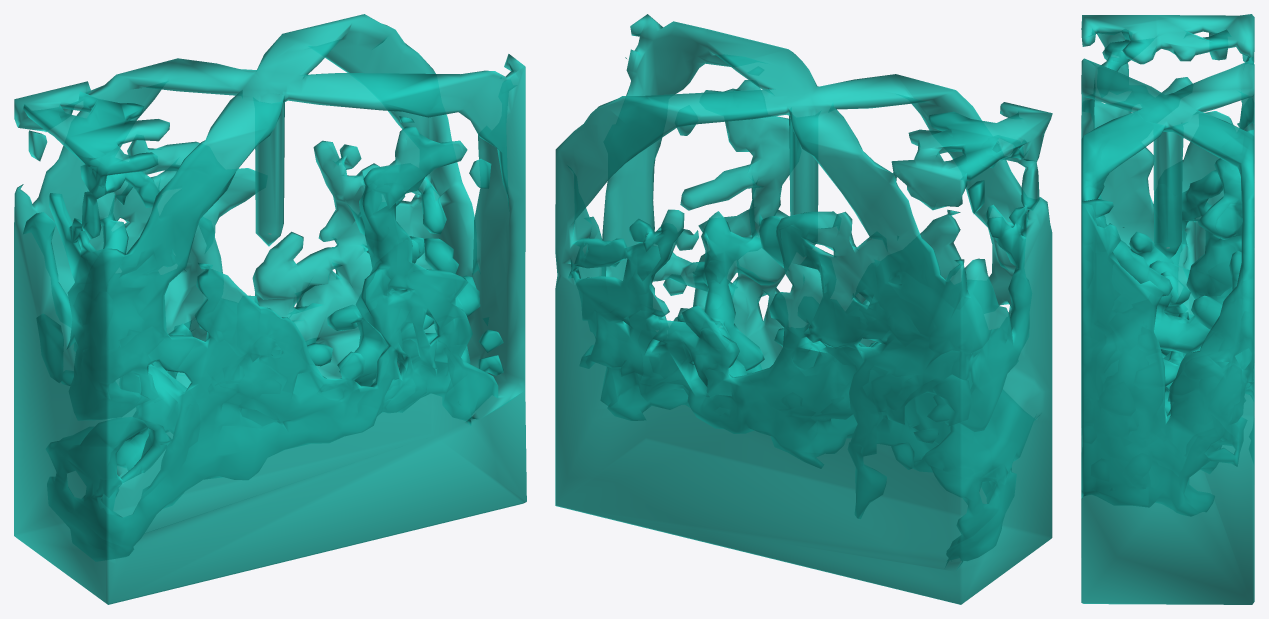
The picture shows the model from 3 angles, left to right: view 1: azimuth 30°, elevation 25°; view 2: azimuth 150°, elevation 25°; view 3: azimuth 270°, elevation 25°; orthographic projection. The views are drawn at different scales.
Visible parts, largest first — view 1: Liquid_Domain; view 2: Liquid_Domain; view 3: Liquid_Domain.
Boxes of the visible parts, left/top/right/bottom form: Liquid_Domain: left=14, top=14, right=526, bottom=604; Liquid_Domain: left=555, top=14, right=1052, bottom=604; Liquid_Domain: left=1081, top=14, right=1254, bottom=604.
Size of the model in its own units: 884 by 884 by 345.
